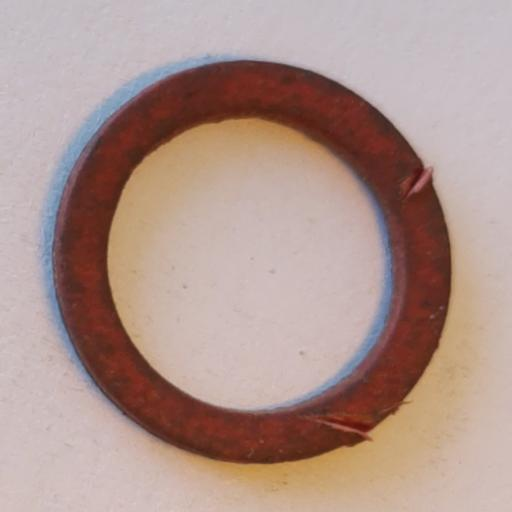defect: (299, 412, 376, 444), (399, 166, 433, 201)
